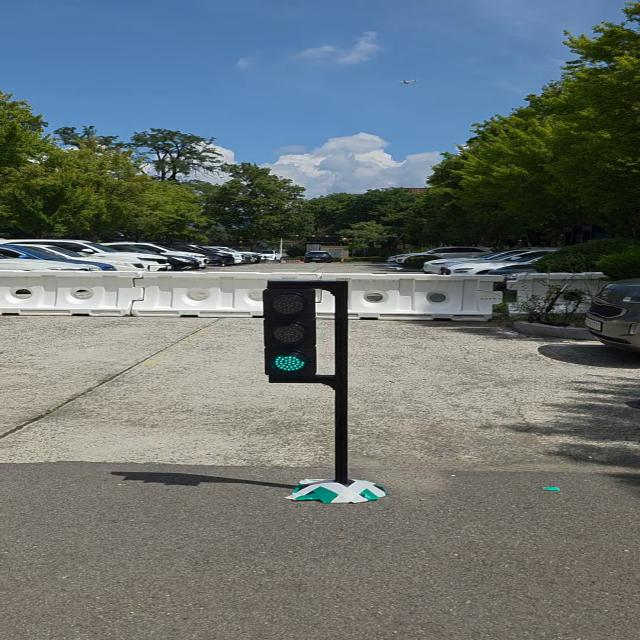green: (262, 284, 317, 384)
